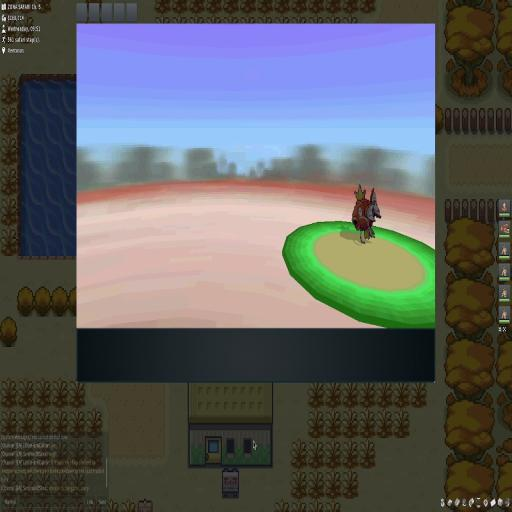MAGIKARP: (349, 186, 380, 246)
